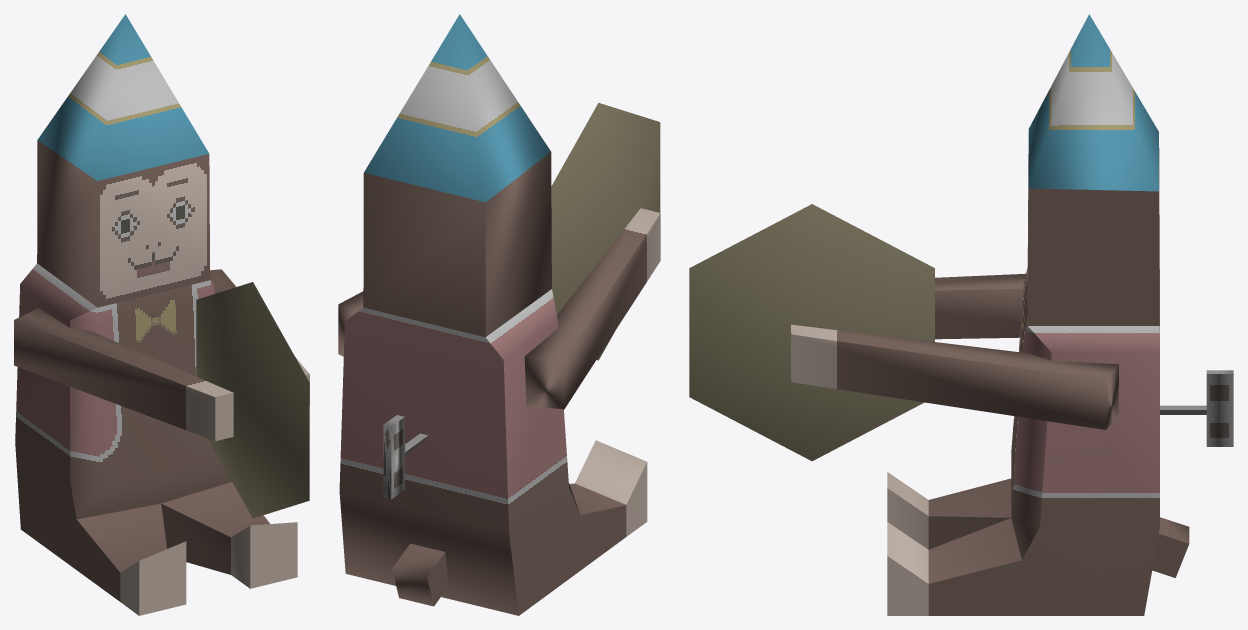
File: 020f_Cymbal_Monkey.glb
The picture shows the model from 3 angles, left to right: view 1: azimuth 30°, elevation 25°; view 2: azimuth 150°, elevation 25°; view 3: azimuth 270°, elevation 25°; orthographic projection. The views are drawn at different scales.
Parts seen in each view (by area): view 1: part_0; view 2: part_0; view 3: part_0.
Part boxes in pixels (bbox=[...]): part_0: bbox=[14, 14, 309, 615]; part_0: bbox=[338, 14, 660, 615]; part_0: bbox=[689, 14, 1233, 615].
Bounding box in the file's own units: 0.1155 × 0.2736 × 0.2412.
1 material, 1 textured.
